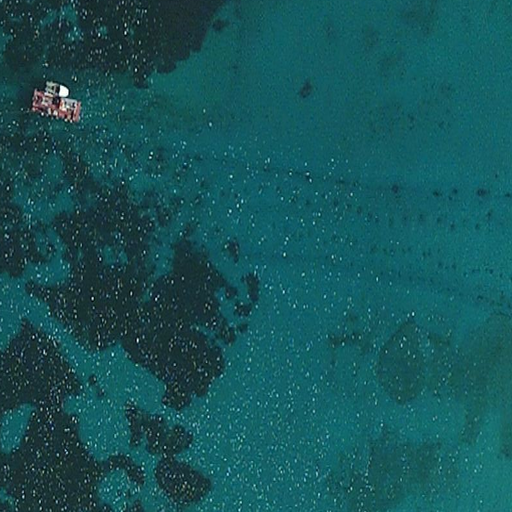ship: (29, 78, 85, 127)
